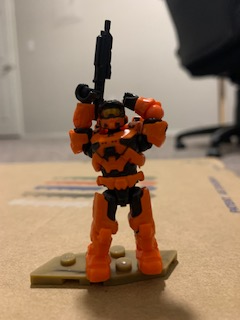rifle: (74, 16, 115, 113)
spartan: (69, 83, 171, 285)
up: (69, 83, 168, 179)
